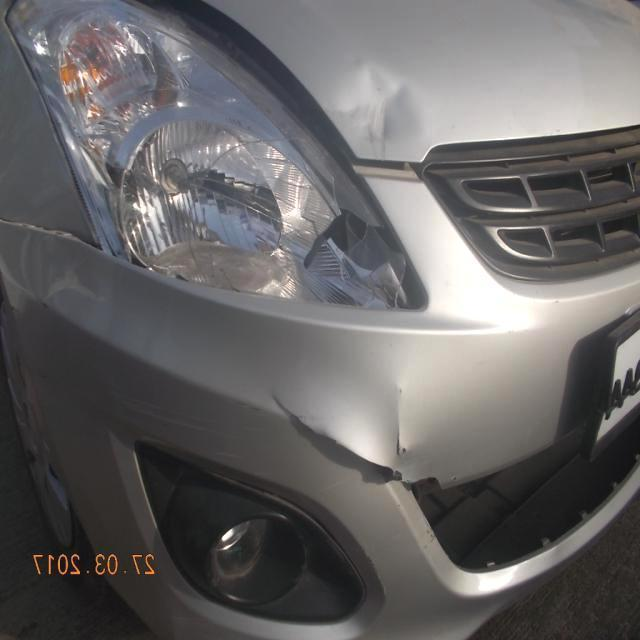minor: (272, 376, 485, 495), (309, 64, 435, 164)
moderate: (122, 65, 427, 310)
